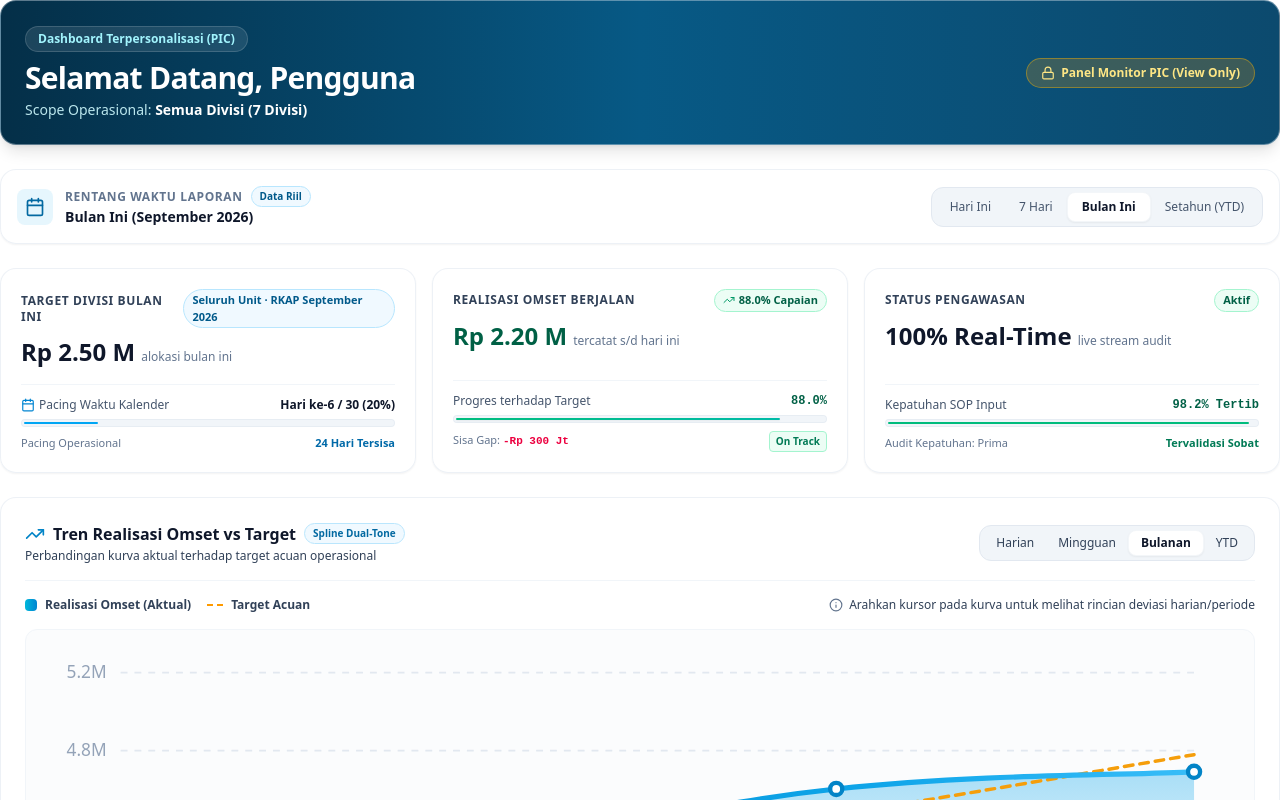
Scenario: Fungsionalitas Filter Rentang Waktu Dashboard (7 Hari, Sebulan, Setahun, Hari Ini) › 6. Interaktivitas Switcher Rentang Waktu dan Role Tambahan (Superadmin & HRD) › mengubah tampilan periode saat tombol tab diklik oleh pengguna
Expected: the text with test id "dashboard-active-period-label" shows "Bulan Ini", [65, 207, 253, 226]
Note: Klik 7 Hari
Step 1. Click the button with test id "timeframe-tab-7d" → [1036, 206], box [1005, 192, 1067, 220]
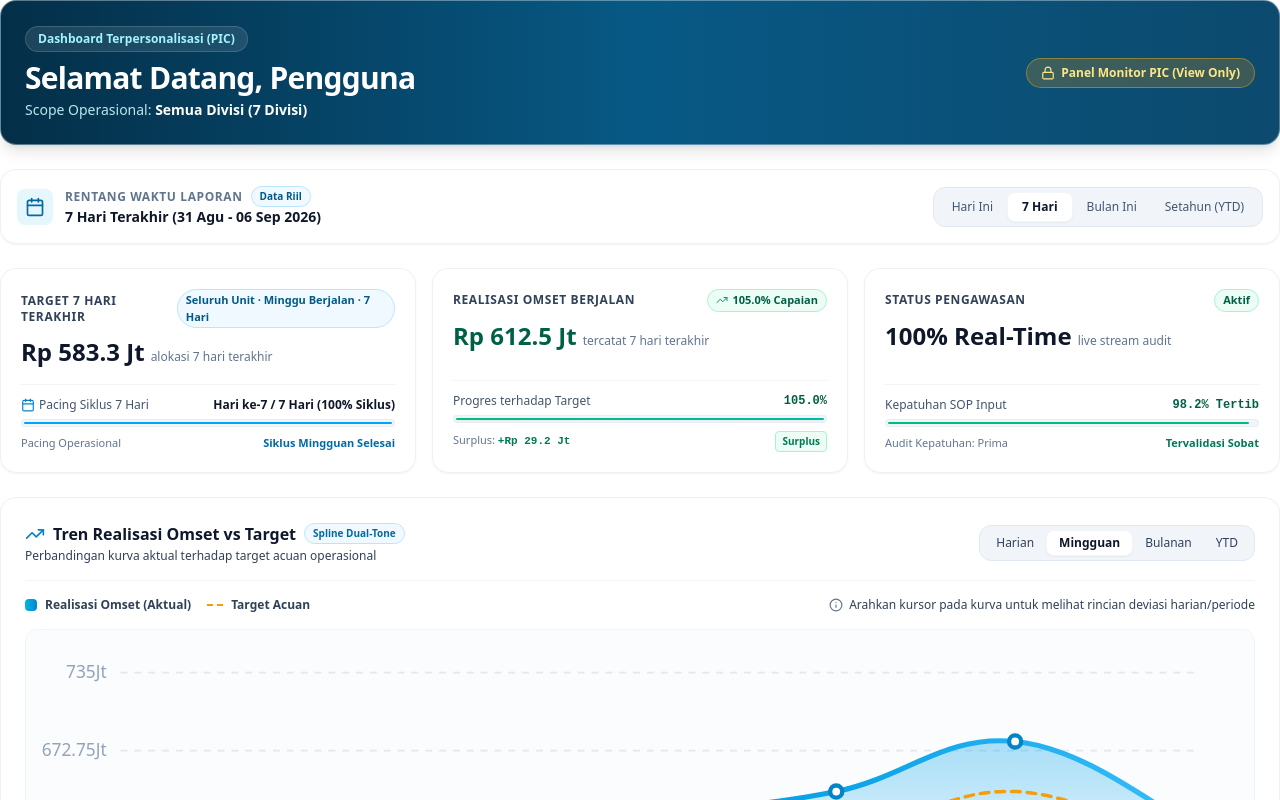
Expected: the text with test id "dashboard-active-period-label" shows "7 Hari Terakhir", [65, 207, 321, 226]
Note: Klik Setahun (YTD)
Step 2. Click the button with test id "timeframe-tab-ytd" → [1204, 206], box [1151, 192, 1258, 220]
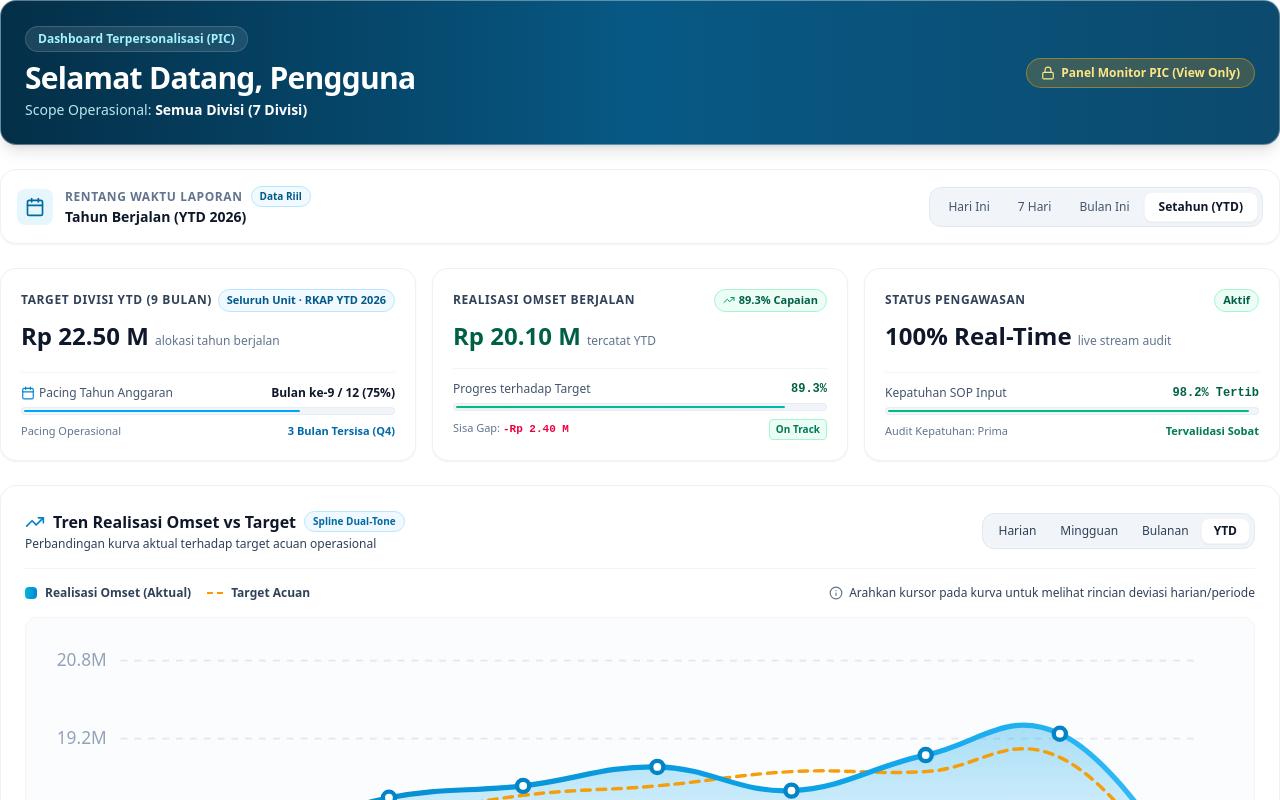
Expected: the text with test id "dashboard-active-period-label" shows "Tahun Berjalan", [65, 207, 246, 226]
Note: Klik Hari Ini
Step 3. Click the button with test id "timeframe-tab-today" → [969, 206], box [934, 192, 1004, 220]
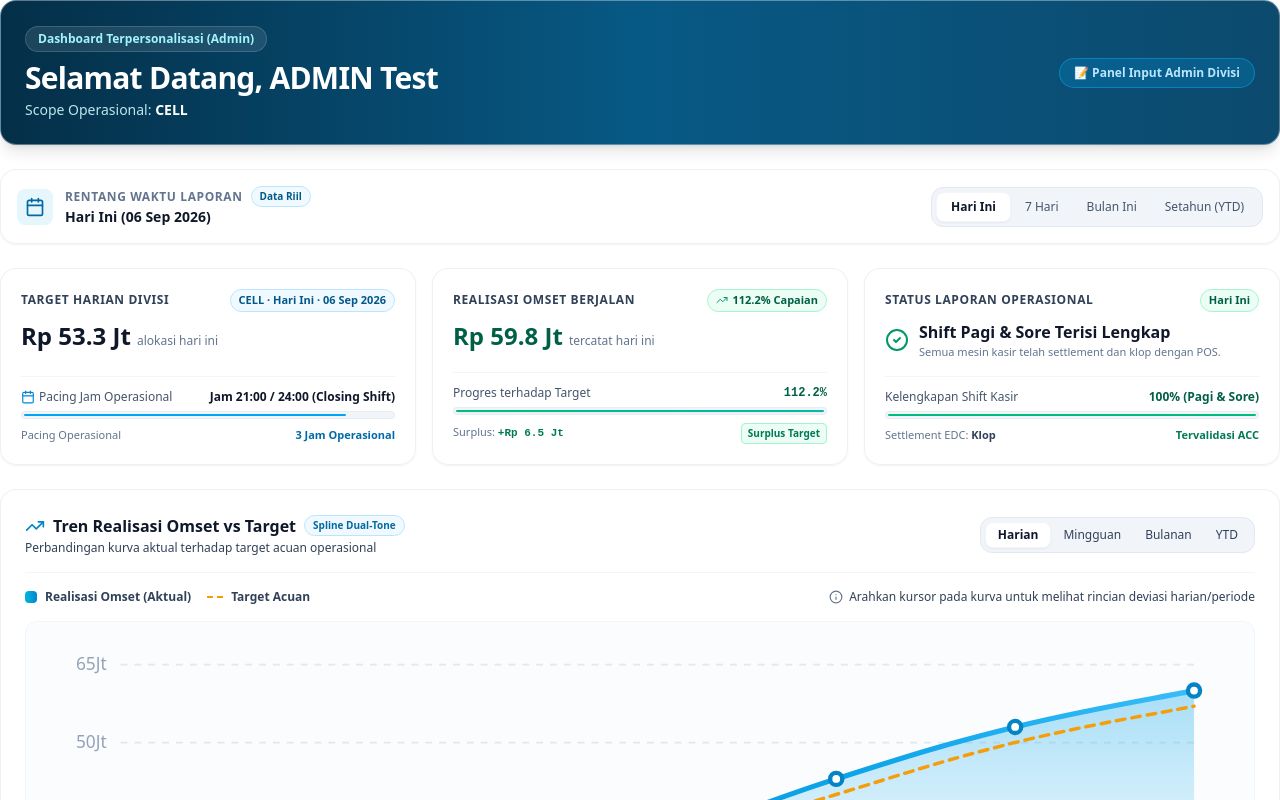
Expected: the text with test id "dashboard-active-period-label" shows "Hari Ini", [65, 207, 211, 226]
